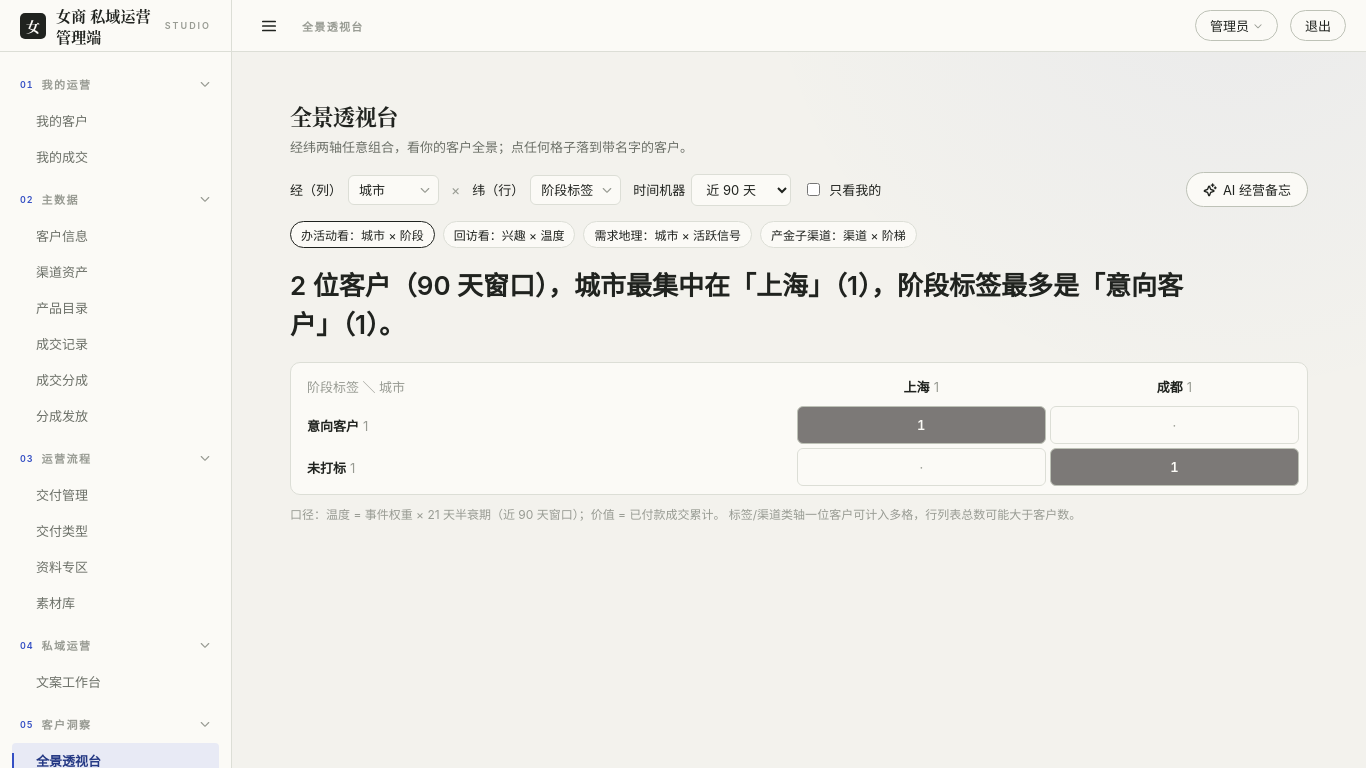
it: AI 经营备忘（四期） › 点按钮 → POST /insights/summary → 展示备忘与来源徽标
The image size is (1366, 768).
Expected: the text "2 位客户" is shown, [290,270,1183,340]
Click the button "AI 经营备忘" at [1247, 190], box [1186,172,1308,207]
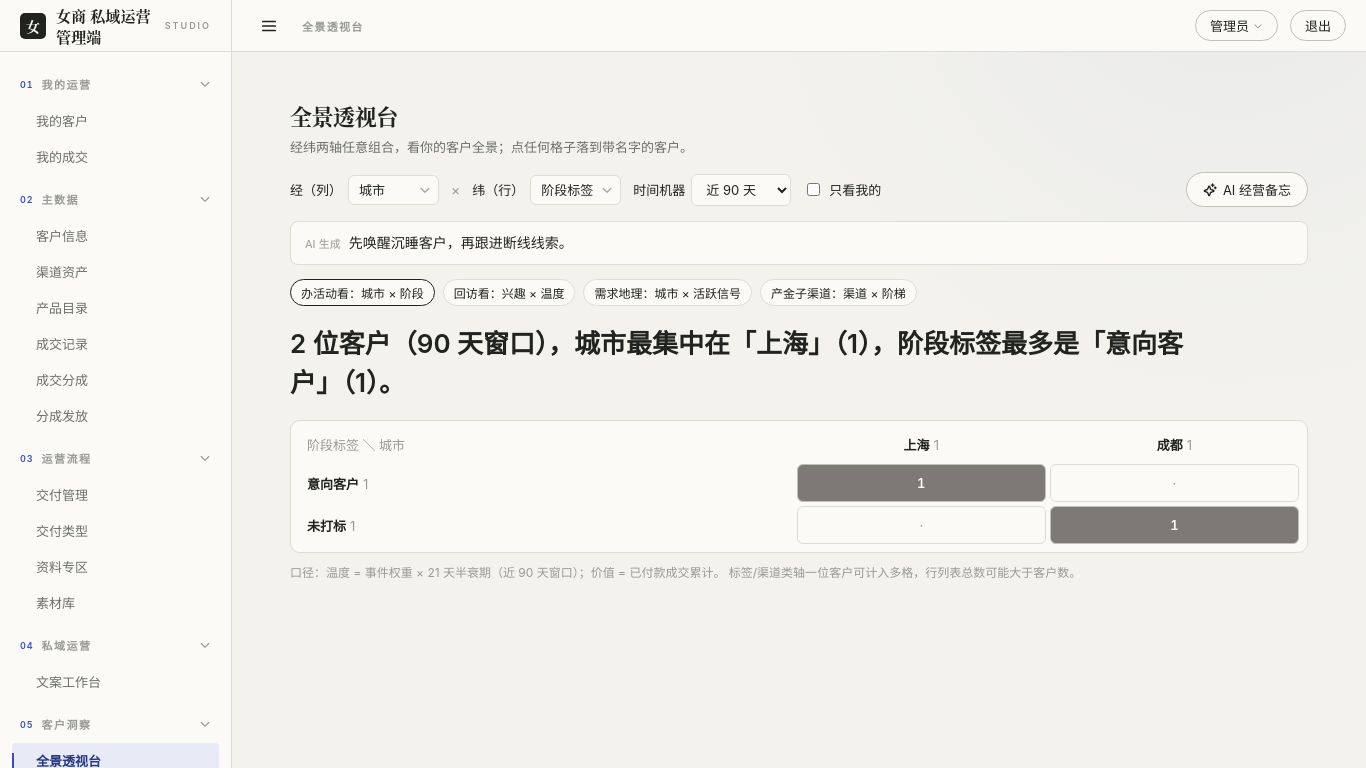
Result: the element with test id "ai-summary" shows "先唤醒沉睡客户" at [349,234,573,251]
Result: the element with test id "ai-summary" shows "AI 生成" at [305,237,341,251]
